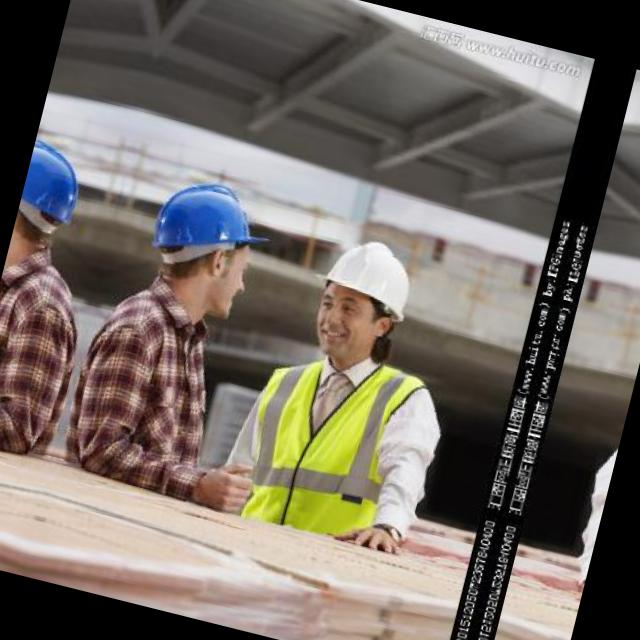helmet: (126, 161, 276, 328), (294, 220, 430, 374), (3, 130, 101, 286)
